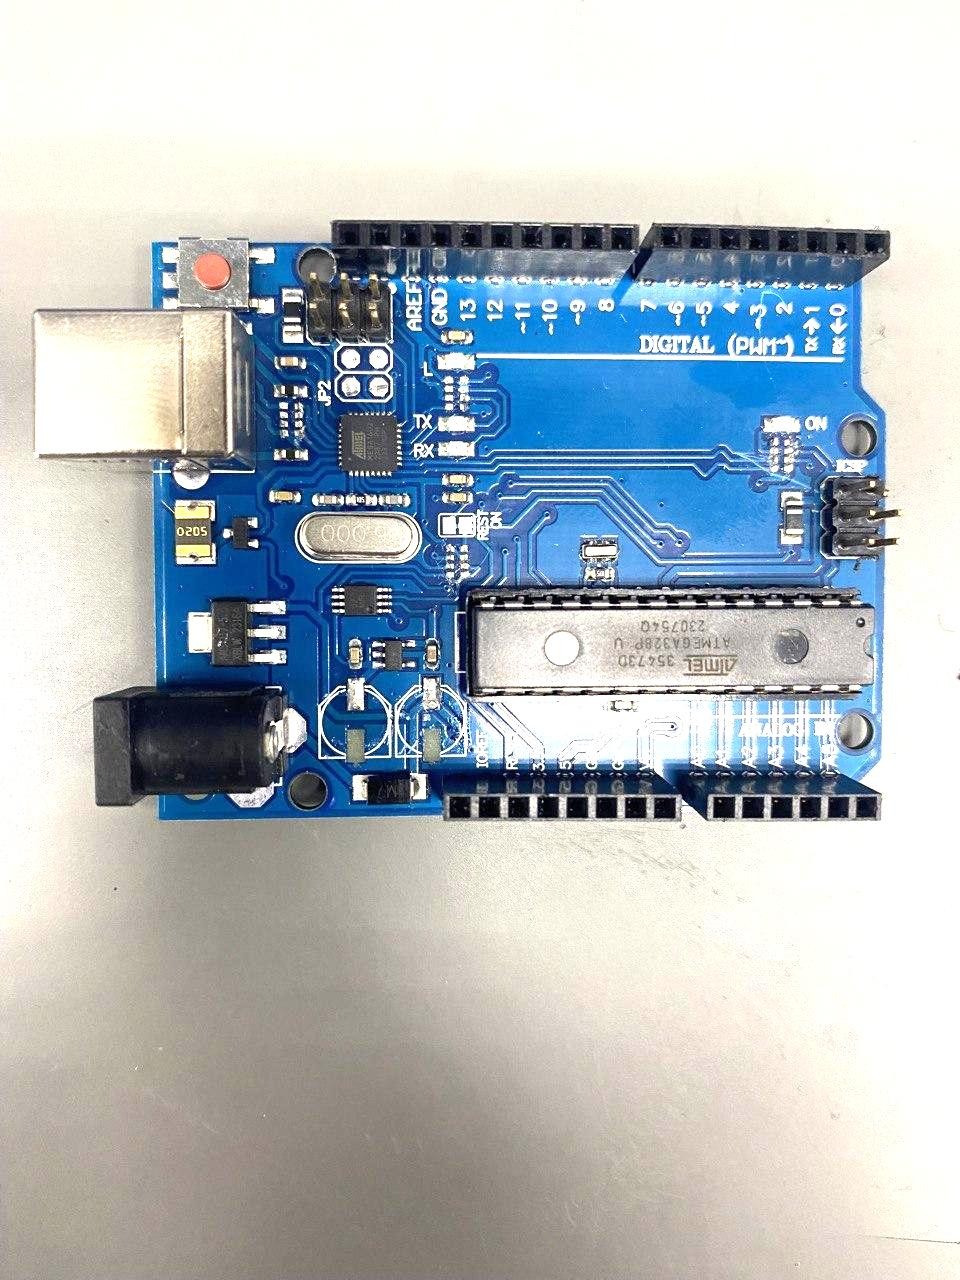ATmega328 chip: (465, 586, 875, 701)
Arduino board: (31, 222, 905, 824)
USB: (32, 308, 256, 474)
pins: (333, 220, 639, 281), (631, 221, 891, 289), (441, 773, 682, 822), (678, 774, 881, 822)
